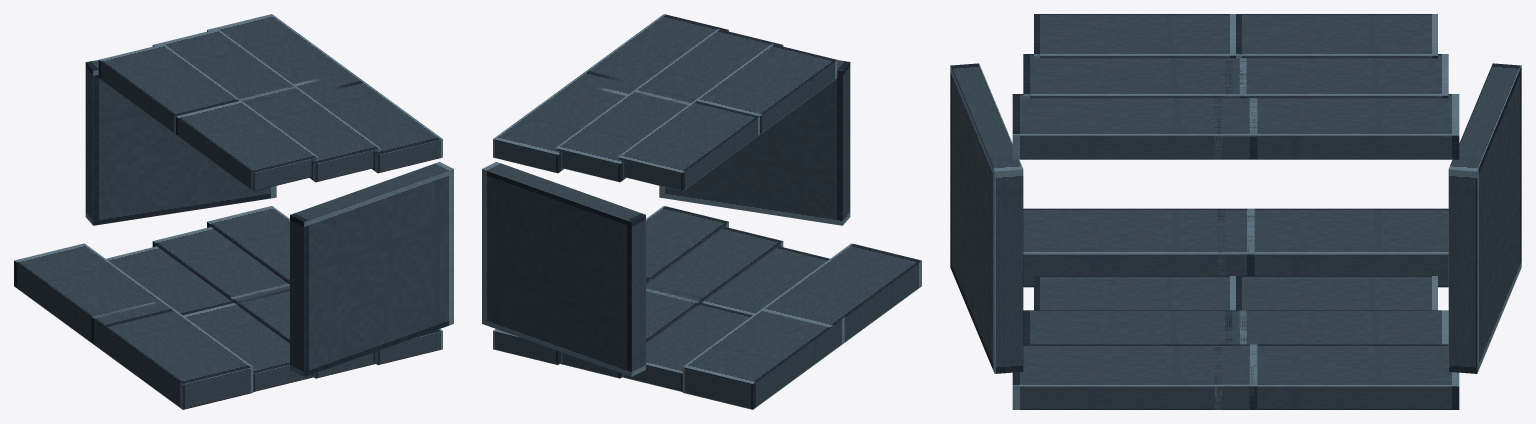
The model's file is bench_leggings_2.obj.
3 views of the same model, side by side, from view 1: azimuth 30°, elevation 25°; view 2: azimuth 150°, elevation 25°; view 3: azimuth 270°, elevation 25° (orthographic). The views are drawn at different scales.
Visible parts, largest first — view 1: geometry; view 2: geometry; view 3: geometry.
Boxes of the visible parts, bbox=[...] form: geometry: bbox=[14, 14, 453, 409]; geometry: bbox=[482, 14, 921, 409]; geometry: bbox=[950, 14, 1521, 409].
Bounding box in the file's own units: 0.3141 × 0.25 × 0.4523.
